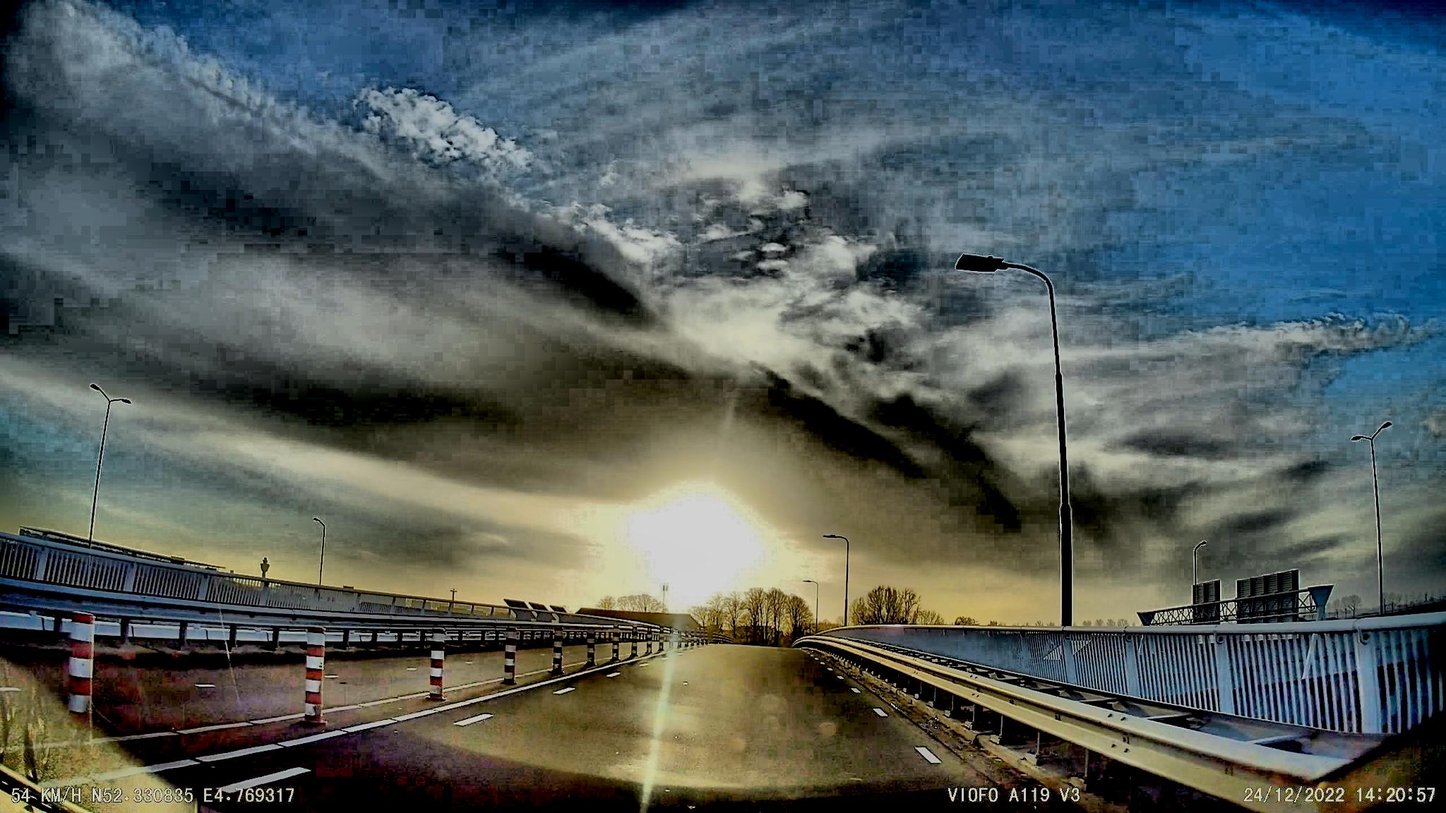Roads: (287, 647, 981, 813)
